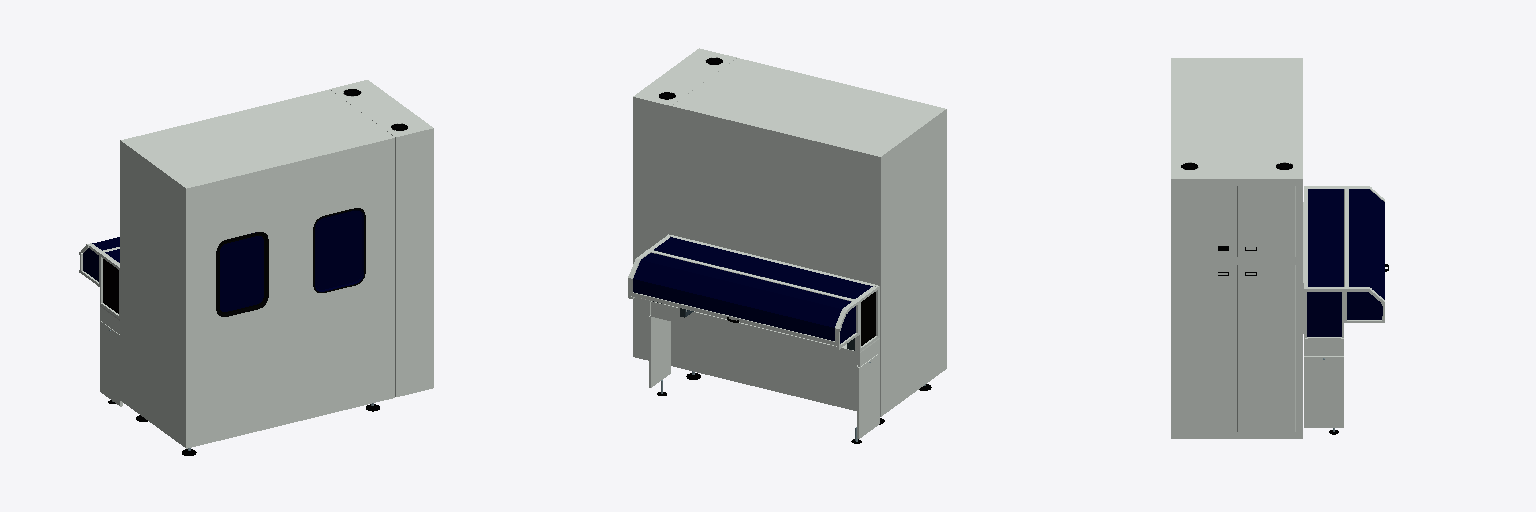
File: Storage.obj
3 renders of one model, left to right at view 1: azimuth 30°, elevation 25°; view 2: azimuth 150°, elevation 25°; view 3: azimuth 270°, elevation 25°, orthographic.
Parts seen in each view (by area): view 1: object3, object13, object22, object14, object6, object1, object18; view 2: object3, object21, object1, object7, object22, object11, object6; view 3: object3, object7, object21, object22, object1, object8, object2, object11.
Part boxes in pixels (x1,y1,x2,y2): object3: (79, 80, 433, 448); object13: (220, 210, 363, 311); object22: (100, 321, 122, 406); object14: (216, 208, 365, 316); object6: (103, 259, 118, 313); object1: (97, 251, 119, 333); object18: (218, 233, 266, 315); object3: (628, 48, 946, 416); object21: (633, 253, 850, 340); object1: (646, 235, 879, 366); object7: (654, 237, 872, 298); object22: (628, 296, 879, 438); object11: (628, 250, 879, 349); object6: (861, 292, 875, 345); object3: (1171, 58, 1384, 438); object7: (1308, 189, 1343, 286); object21: (1349, 189, 1384, 299); object22: (1303, 202, 1384, 427); object1: (1304, 186, 1348, 355); object8: (1307, 292, 1341, 336); object2: (1347, 292, 1382, 319); object11: (1344, 186, 1384, 305).
Bounding box in the file's own units: 107 × 113 × 81.21.